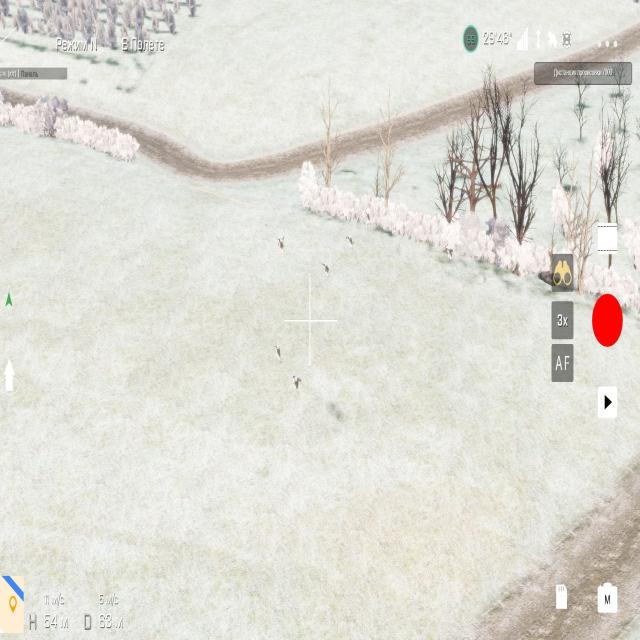infantry: (274, 229, 296, 268), (439, 237, 456, 276), (269, 338, 288, 370), (360, 202, 376, 240), (342, 228, 361, 258), (288, 370, 304, 404), (317, 256, 334, 288)
